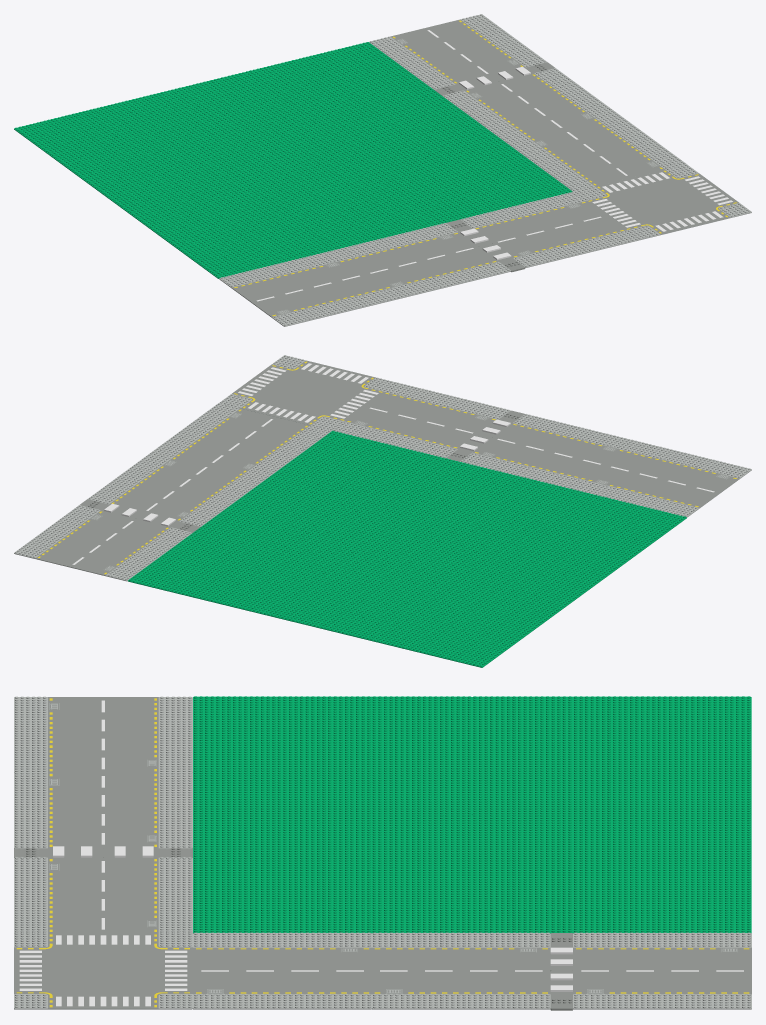
The model's file is Ground_huge(fixed).glb.
3 views of the same model, one above another, from view 1: azimuth 30°, elevation 25°; view 2: azimuth 150°, elevation 25°; view 3: azimuth 270°, elevation 25° (orthographic). The views are drawn at different scales.
Parts seen in each view (by area): view 1: Ground_huge(fixed); view 2: Ground_huge(fixed); view 3: Ground_huge(fixed).
Boxes of the visible parts, <box> form: Ground_huge(fixed): <box>14,14,751,326</box>; Ground_huge(fixed): <box>14,355,751,667</box>; Ground_huge(fixed): <box>14,696,751,1010</box>.
Size of the model in its own units: 2641 by 16.07 by 2641.
